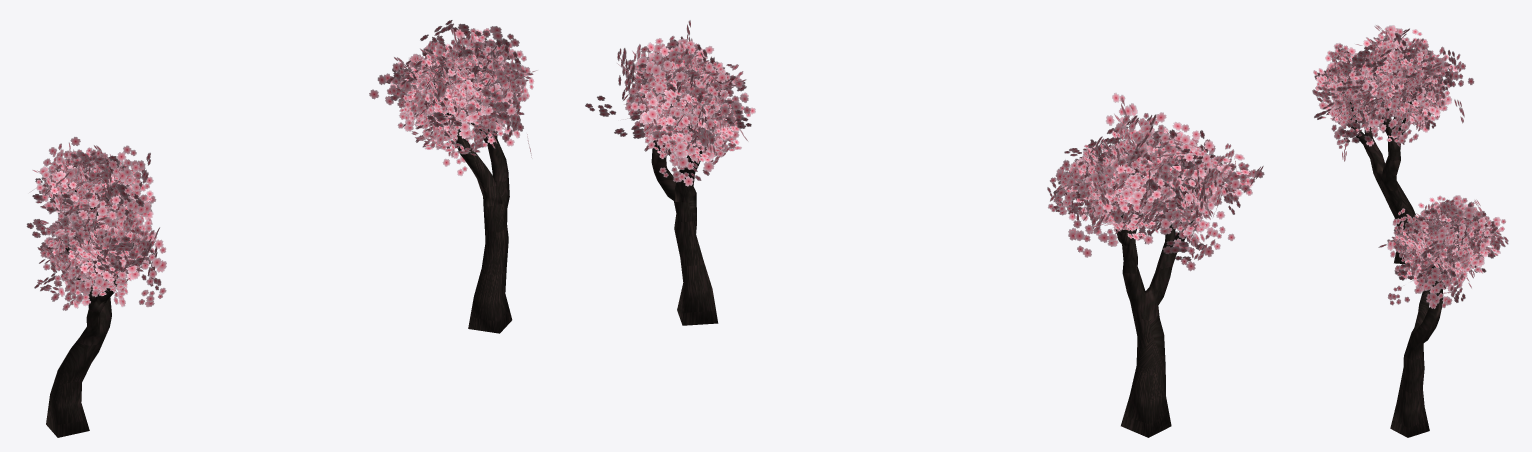
File: sakura_tree.glb
3 renders of one model, left to right at view 1: azimuth 30°, elevation 25°; view 2: azimuth 150°, elevation 25°; view 3: azimuth 270°, elevation 25°, orthographic. The views are drawn at different scales.
Visible parts, largest first — view 1: TreeA_blossom, TreeB_blossom, TreeB_trunk, TreeA_trunk; view 2: TreeA_blossom, TreeB_blossom, TreeA_trunk, TreeB_trunk; view 3: TreeA_blossom, TreeB_blossom, TreeB_trunk, TreeA_trunk.
Boxes of the visible parts, box(x1,y1,x2,y2) form: TreeA_blossom: box(27, 136, 166, 310); TreeB_blossom: box(369, 20, 537, 176); TreeB_trunk: box(434, 84, 512, 333); TreeA_trunk: box(46, 187, 133, 437); TreeA_blossom: box(1047, 93, 1264, 271); TreeB_blossom: box(585, 20, 755, 186); TreeA_trunk: box(1115, 182, 1214, 437); TreeB_trunk: box(651, 125, 718, 325); TreeA_blossom: box(1312, 25, 1474, 161); TreeB_blossom: box(1378, 195, 1508, 308); TreeB_trunk: box(1390, 266, 1443, 437); TreeA_trunk: box(1341, 70, 1416, 263).
Bounding box in the file's own units: 16.42 × 8.01 × 6.38.
Materials: 2 (2 with a texture image).
